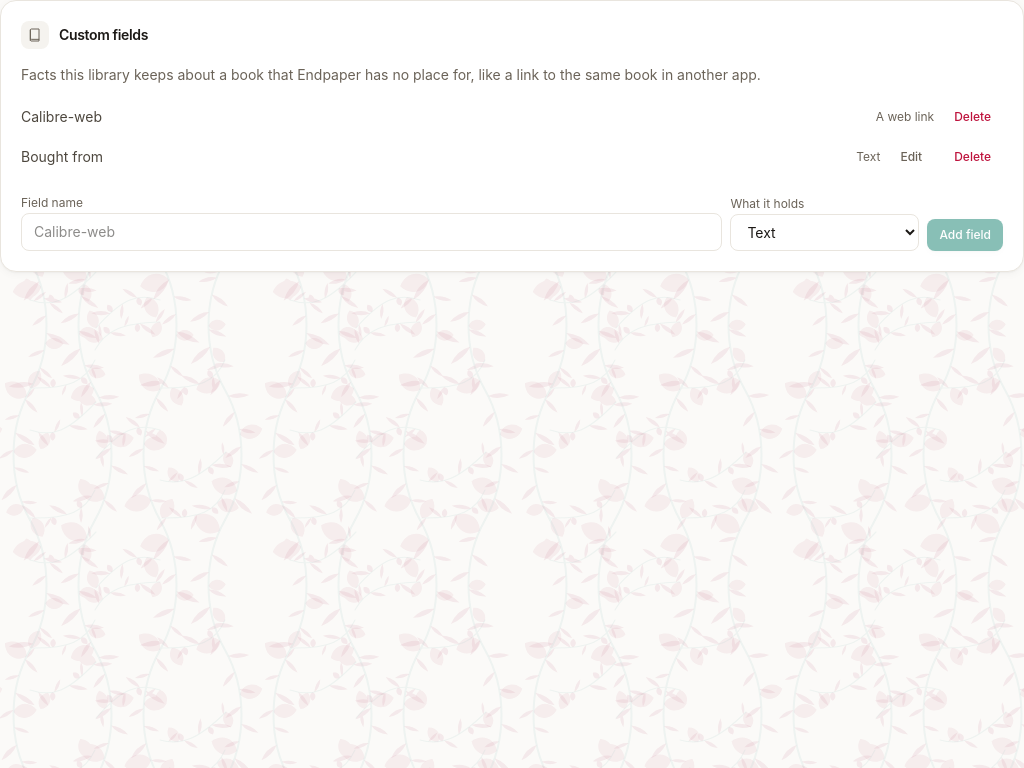
Scenario: CustomFieldsSection › offers the rename only on the rows that carry it
Click the button "Edit": (911, 157) [888,141,934,173]
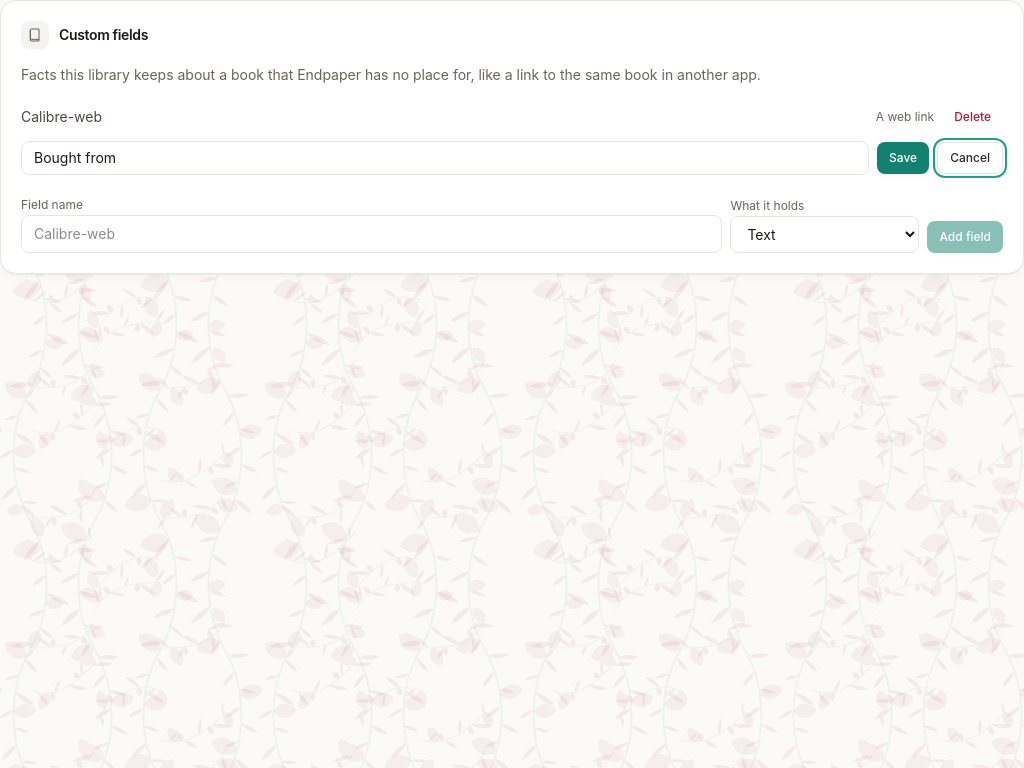
Result: the field named "New name for Bought from" is shown at [21,141,869,175]
